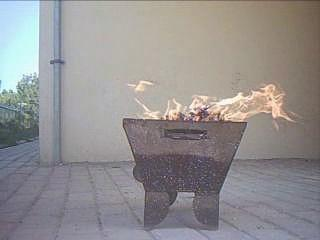fire: (129, 72, 294, 132)
